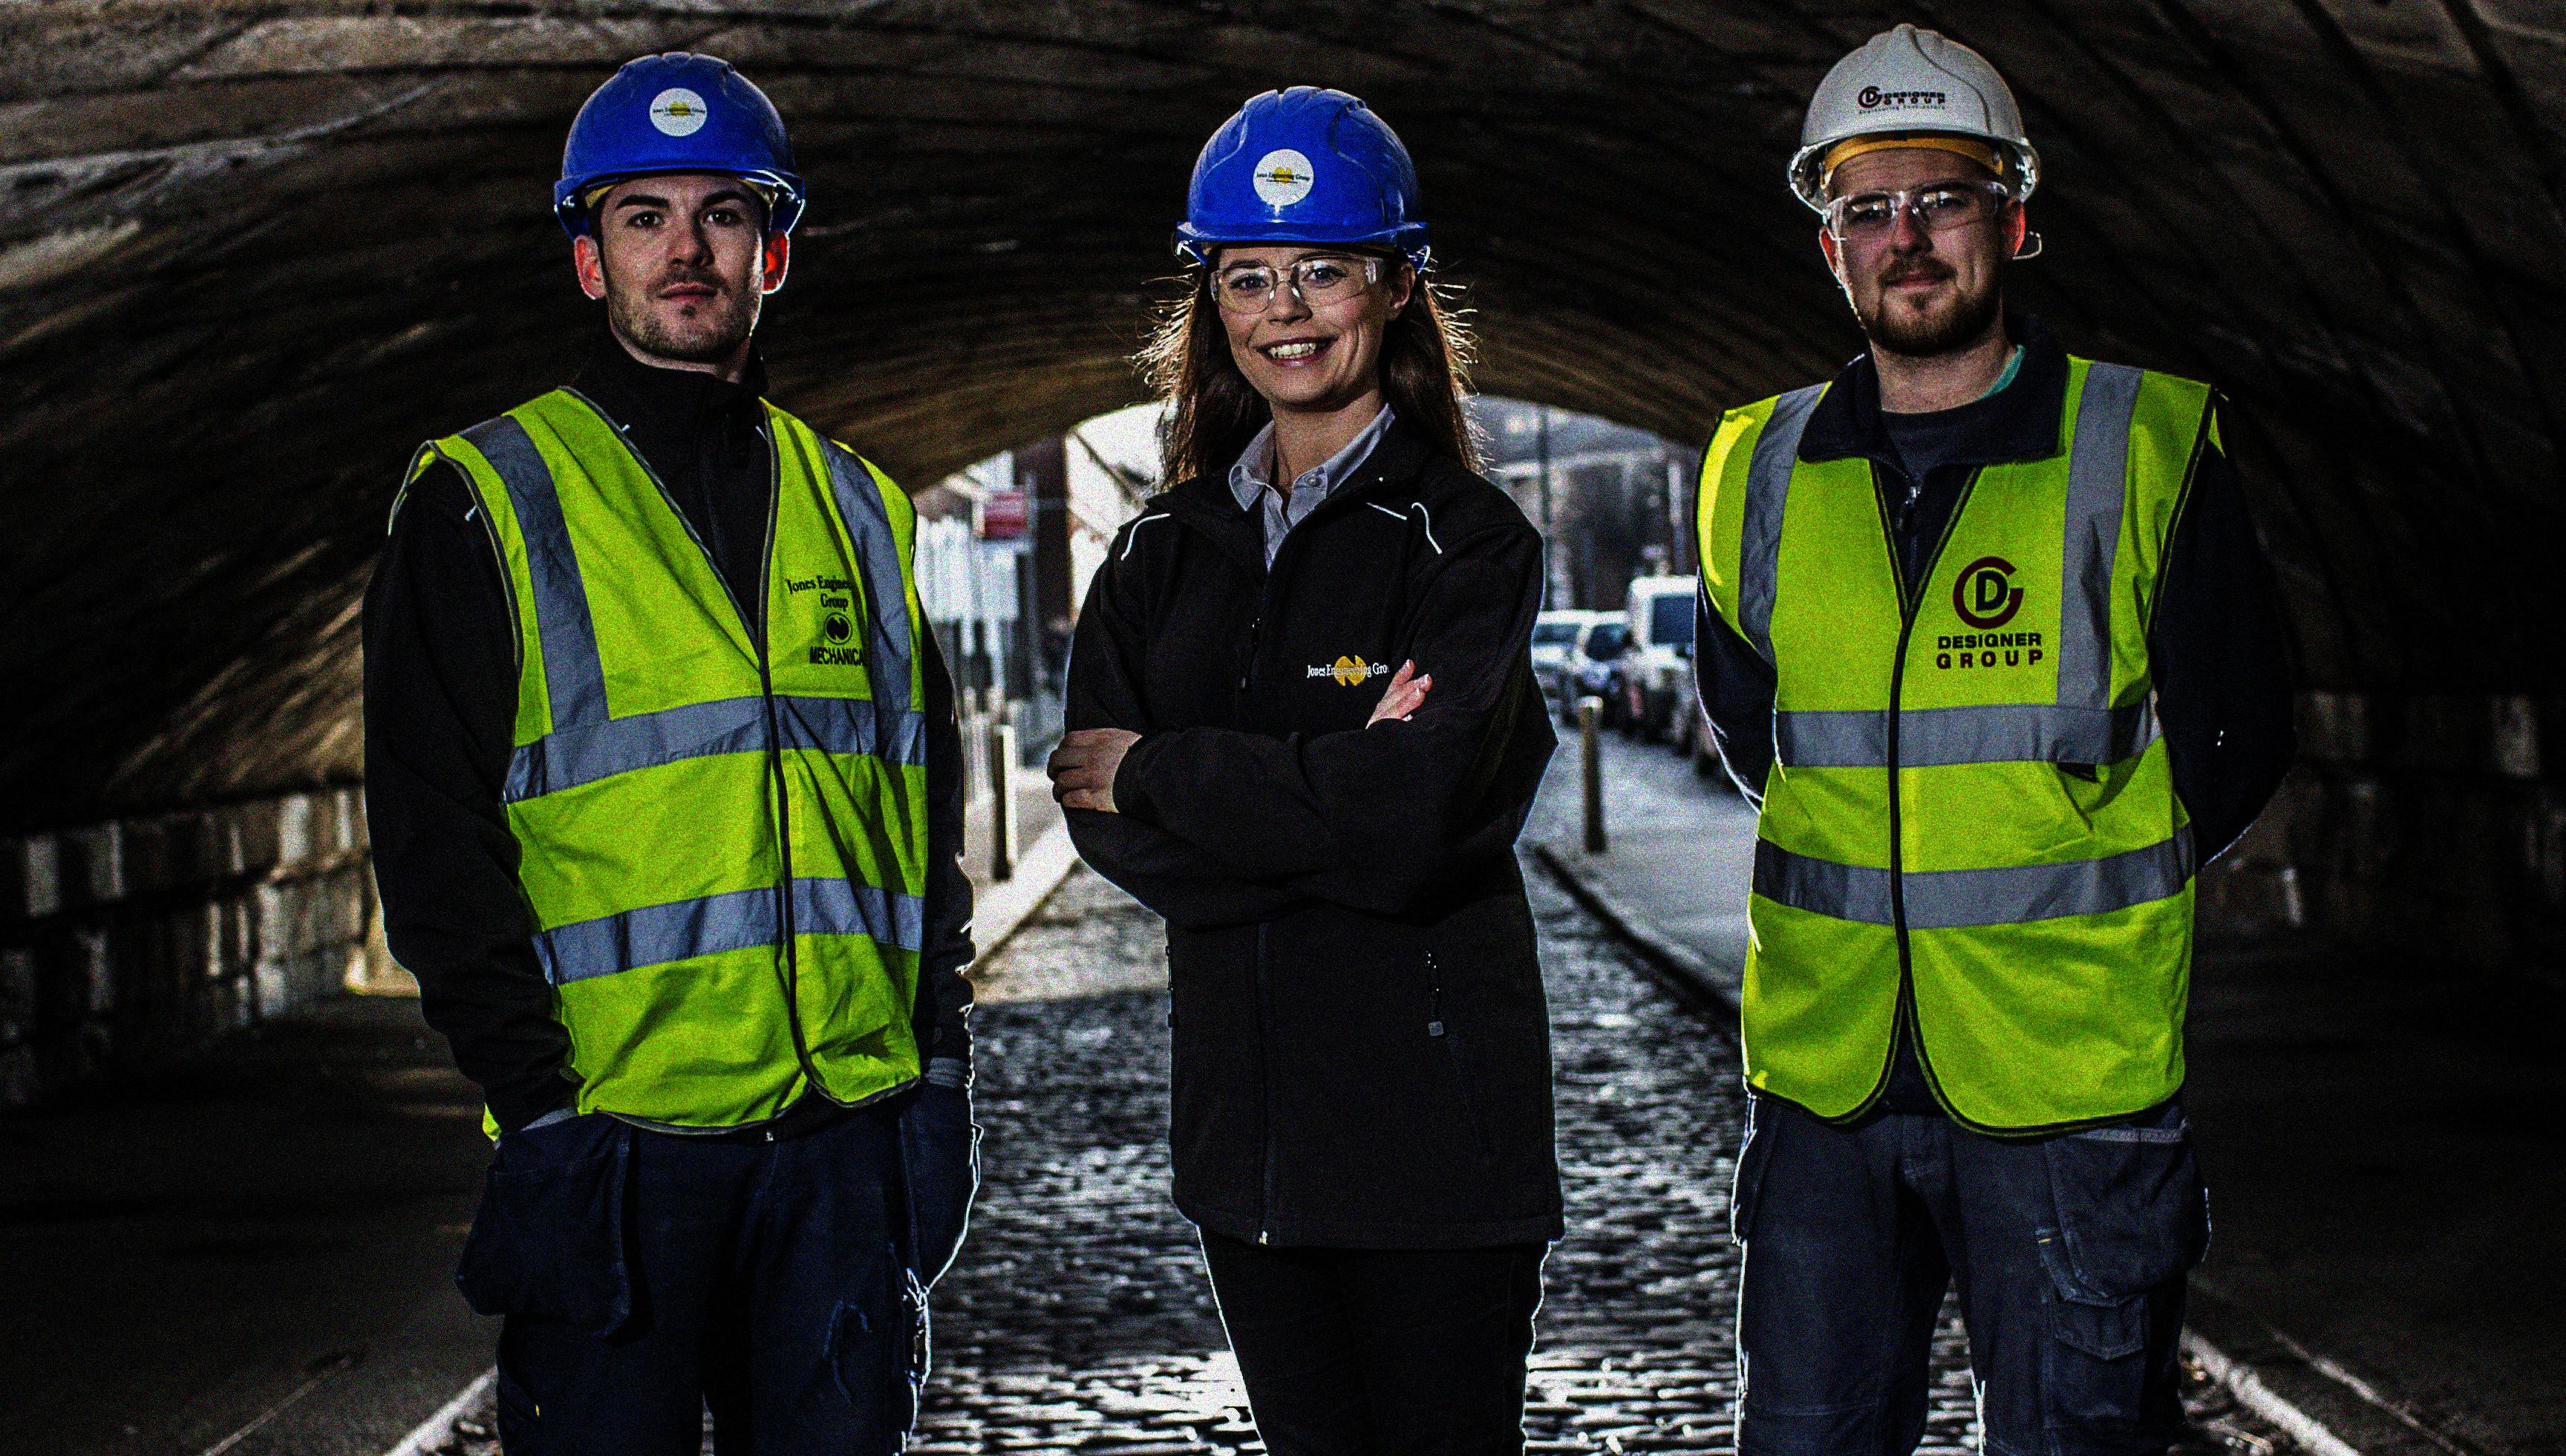helmet: (1778, 19, 2037, 345), (1172, 79, 1429, 402), (552, 48, 802, 365)
